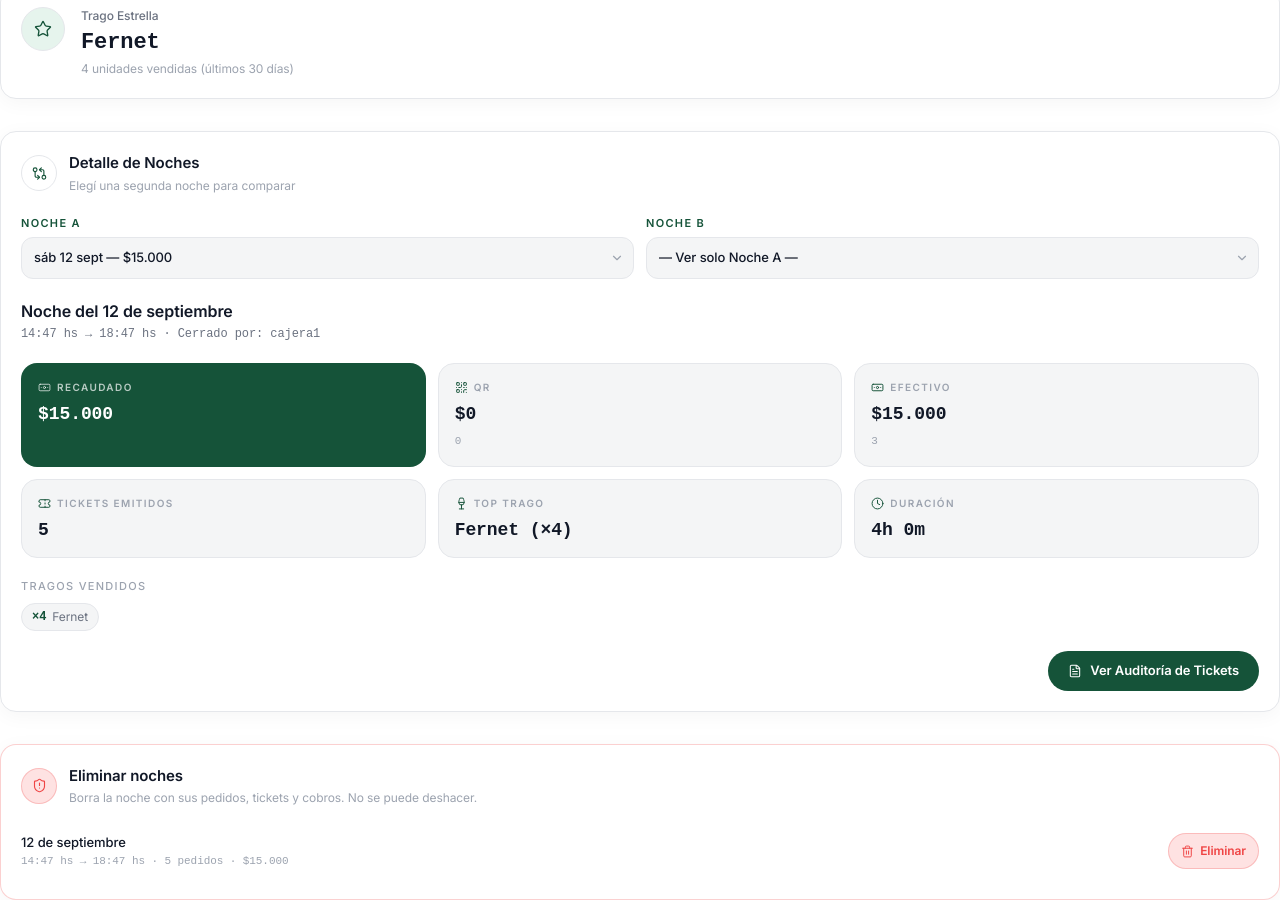
Test: HistorialSection › eliminar noche (D1) › si el detalle falla, el hold queda deshabilitado
(page scrolled)
Click the button with aria-label "Eliminar la noche del".
click(1214, 851)  # box x1=1168 y1=833 x2=1259 y2=869
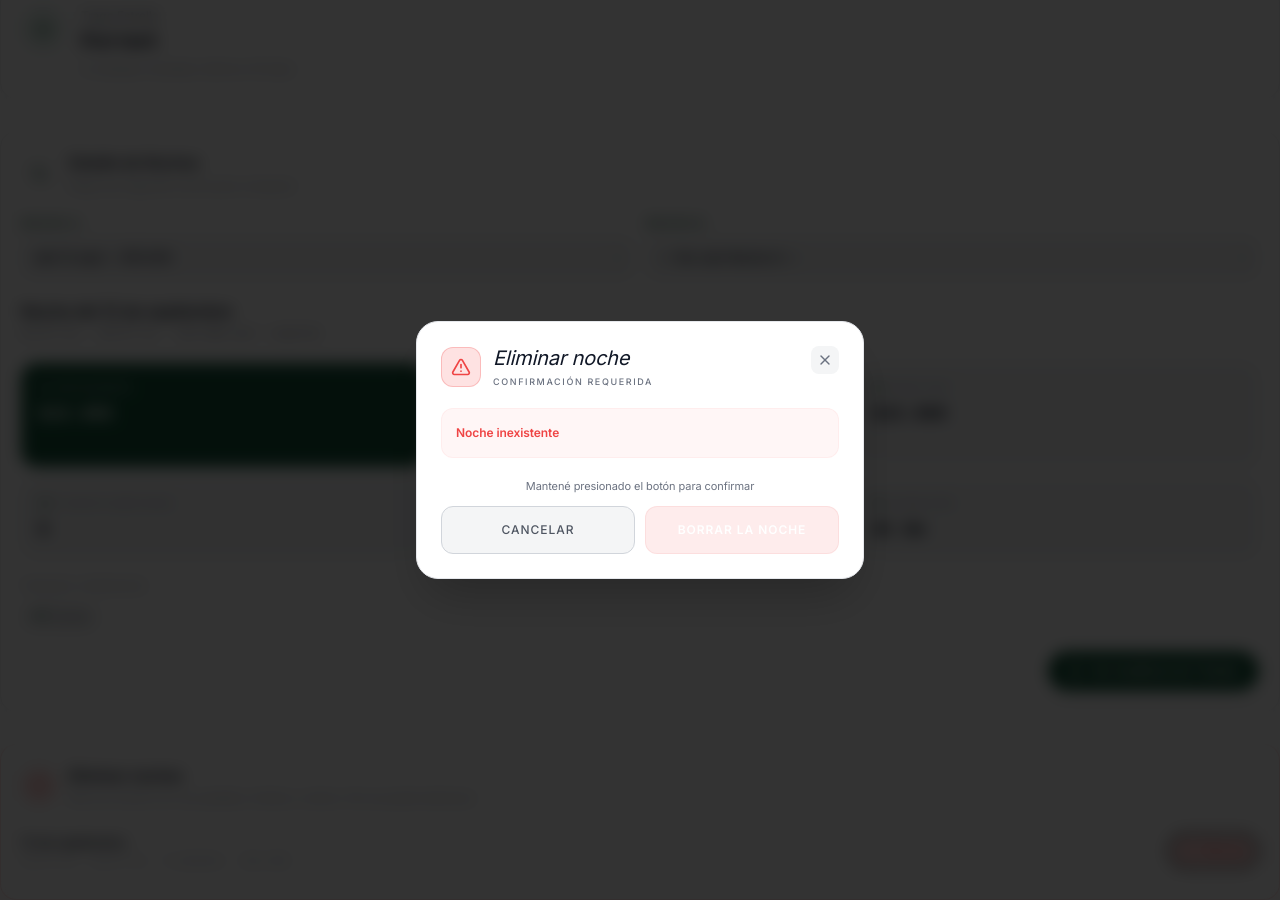
Expected: the button with aria-label "Borrar la noche. Mantené" is disabled, x1=645 y1=506 x2=839 y2=554
Result: the text "Noche inexistente" is shown at x1=456 y1=425 x2=559 y2=440
